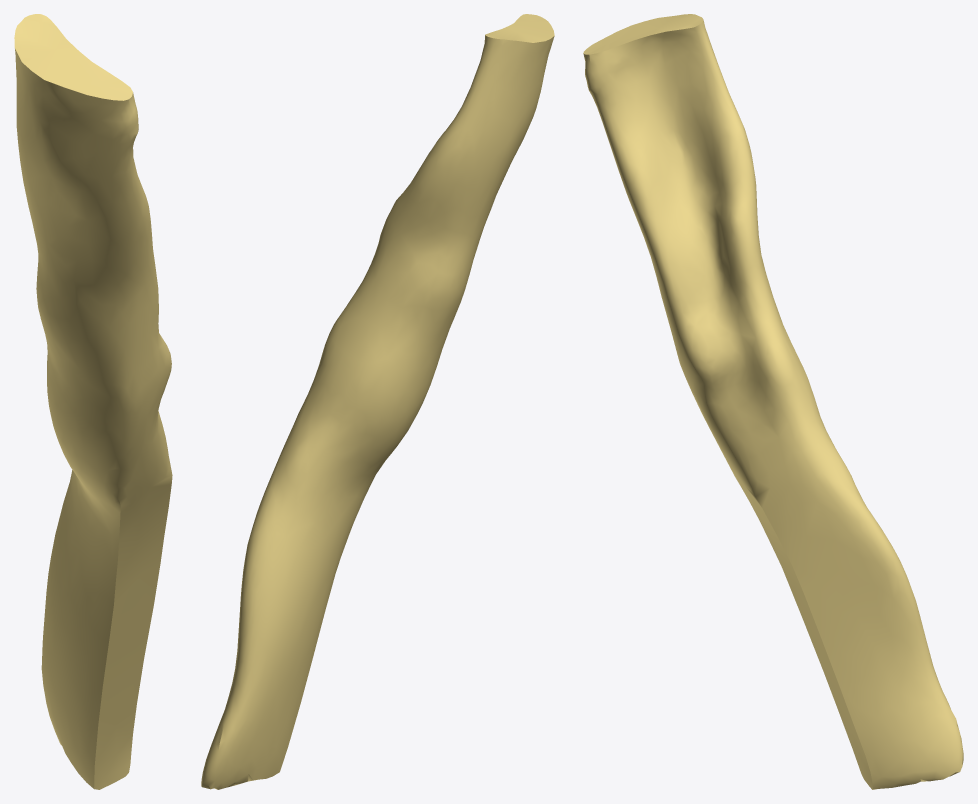
File: fma256751_mm3422m.glb
The picture shows the model from 3 angles, left to right: view 1: azimuth 30°, elevation 25°; view 2: azimuth 150°, elevation 25°; view 3: azimuth 270°, elevation 25°; orthographic projection. The views are drawn at different scales.
Visible parts, largest first — view 1: FMA256751_MM3422M; view 2: FMA256751_MM3422M; view 3: FMA256751_MM3422M.
Part boxes in pixels (x1,y1,x2,y2): FMA256751_MM3422M: [14, 14, 172, 789]; FMA256751_MM3422M: [201, 14, 554, 789]; FMA256751_MM3422M: [583, 14, 963, 789].
Size of the model in its own units: 0.0069 by 0.0235 by 0.0117.
